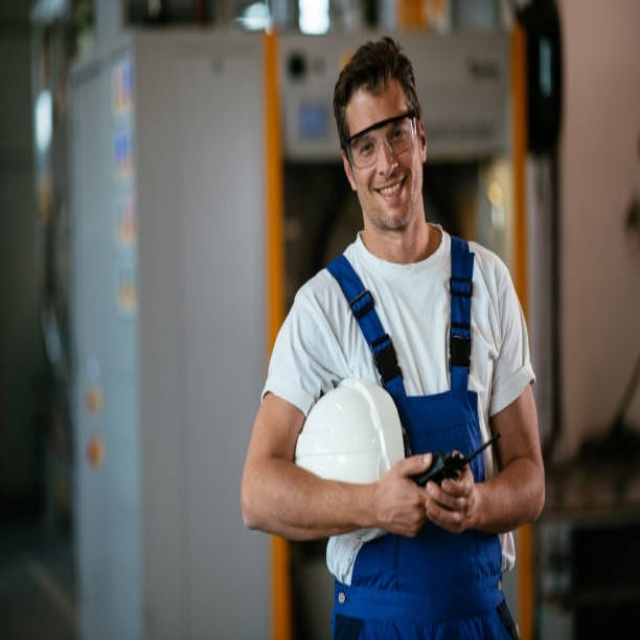Gafas: (345, 110, 418, 162)
Sin_guantes: (371, 454, 447, 537), (431, 450, 480, 535)
Sin_mascara: (365, 171, 413, 218)
